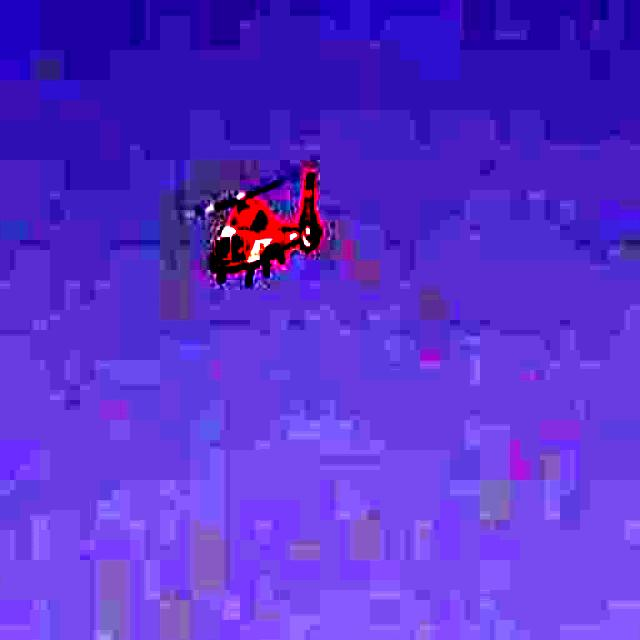drone: (154, 126, 390, 314)
